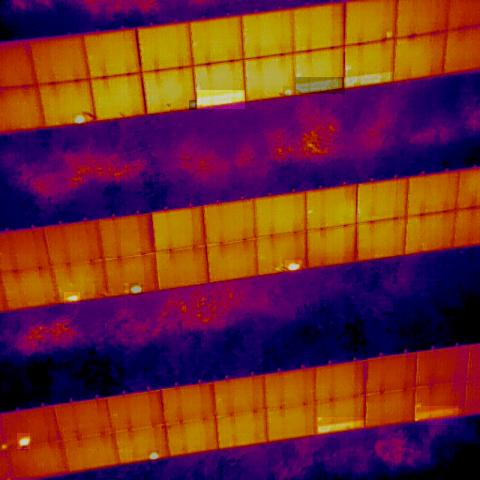fault: (315, 417, 366, 438), (197, 90, 245, 109), (345, 71, 394, 89), (296, 77, 346, 94), (415, 406, 458, 425), (285, 260, 302, 273), (17, 434, 30, 450), (64, 292, 80, 304), (72, 113, 84, 127), (129, 283, 143, 295), (385, 29, 394, 44), (147, 450, 159, 461), (0, 440, 9, 454), (283, 86, 292, 96), (189, 100, 196, 110)
